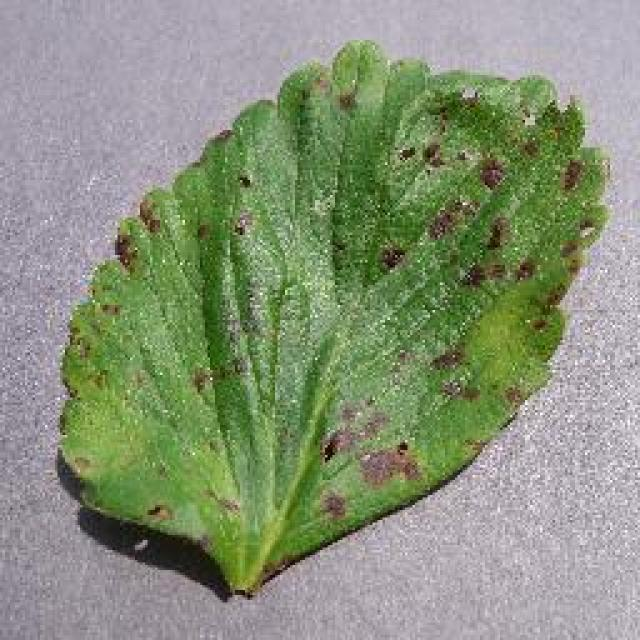Strawberry___Leaf_scorch: (48, 17, 622, 615)
